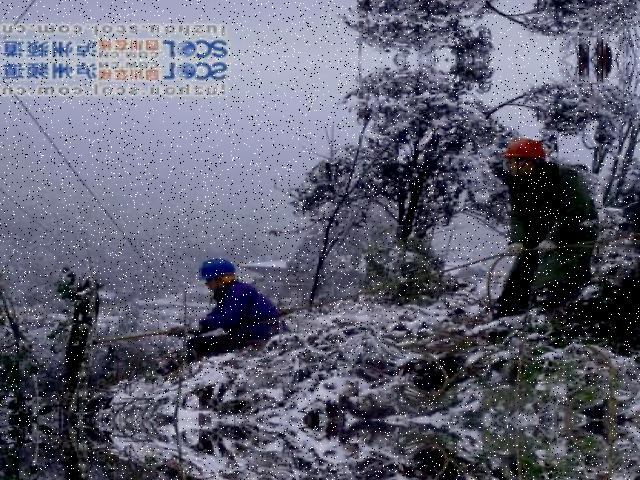Helmet: (502, 136, 548, 164), (198, 254, 243, 282)
